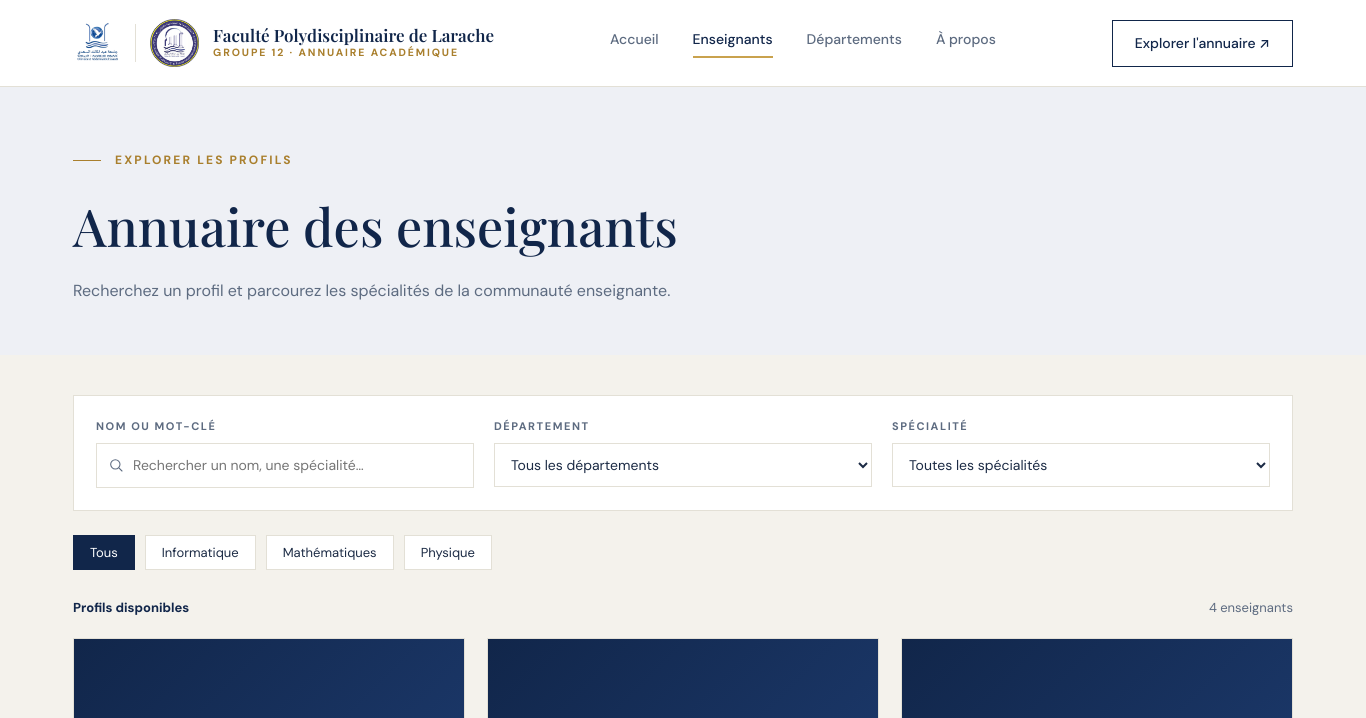
Scenario: Annuaire des enseignants › un message s'affiche quand aucun enseignant ne correspond
The image size is (1366, 718).
Type "zzzzzz" into the search field at (285, 465), box [96, 442, 474, 488]
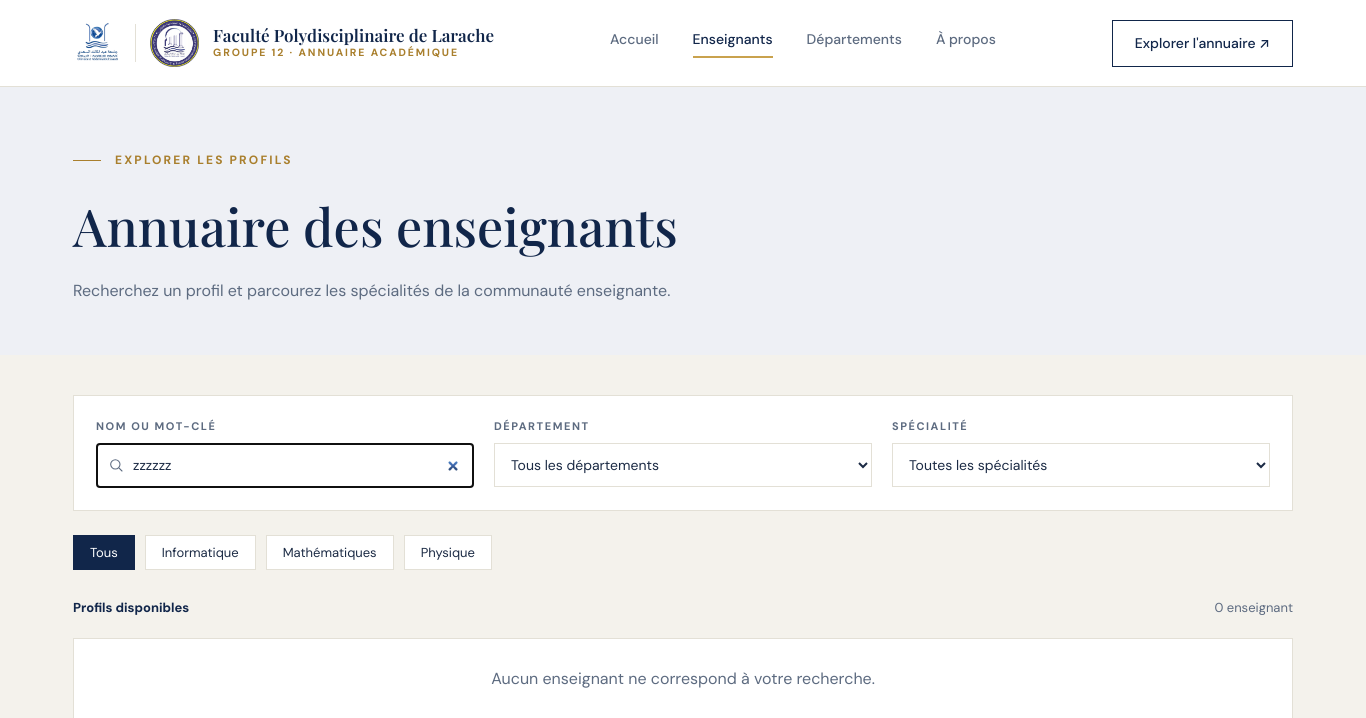
Check: the text "Aucun enseignant ne correspond à votre recherche." is shown, box [491, 668, 875, 688]
